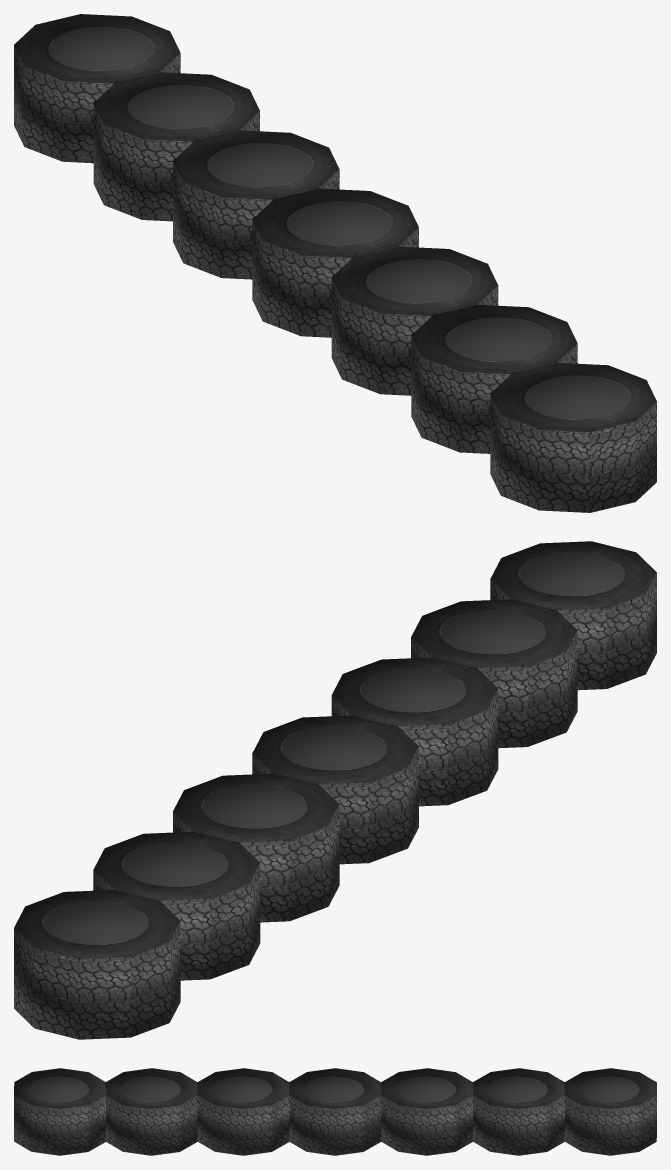
File: wheels_straight_short.fbx
3 views of the same model, one above another, from view 1: azimuth 30°, elevation 25°; view 2: azimuth 150°, elevation 25°; view 3: azimuth 270°, elevation 25° (orthographic). The views are drawn at different scales.
Visible parts, largest first — view 1: wheels_straight_short; view 2: wheels_straight_short; view 3: wheels_straight_short.
Boxes of the visible parts, x1,y1,x2,y2 form: wheels_straight_short: (14,14,656,512); wheels_straight_short: (14,541,656,1039); wheels_straight_short: (14,1068,656,1155).
Size of the model in its own units: 30.36 by 16.14 by 201.
